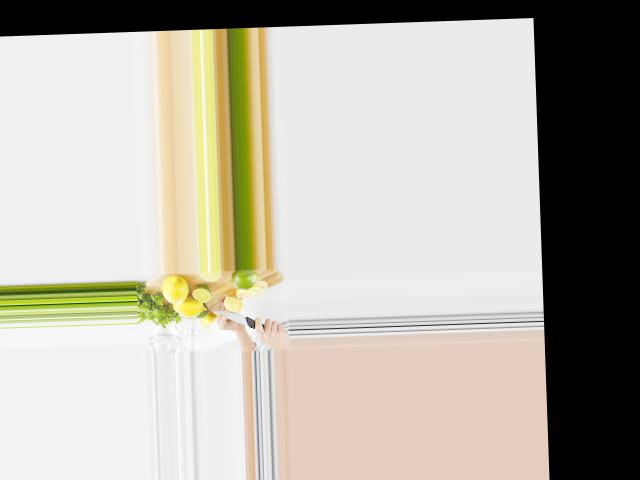lemon: (157, 275, 191, 304)
